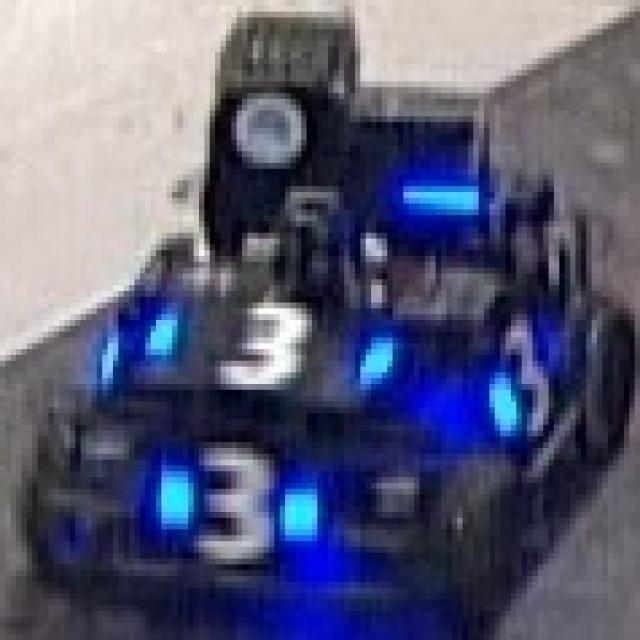B3: (156, 436, 323, 570), (484, 314, 570, 436)
